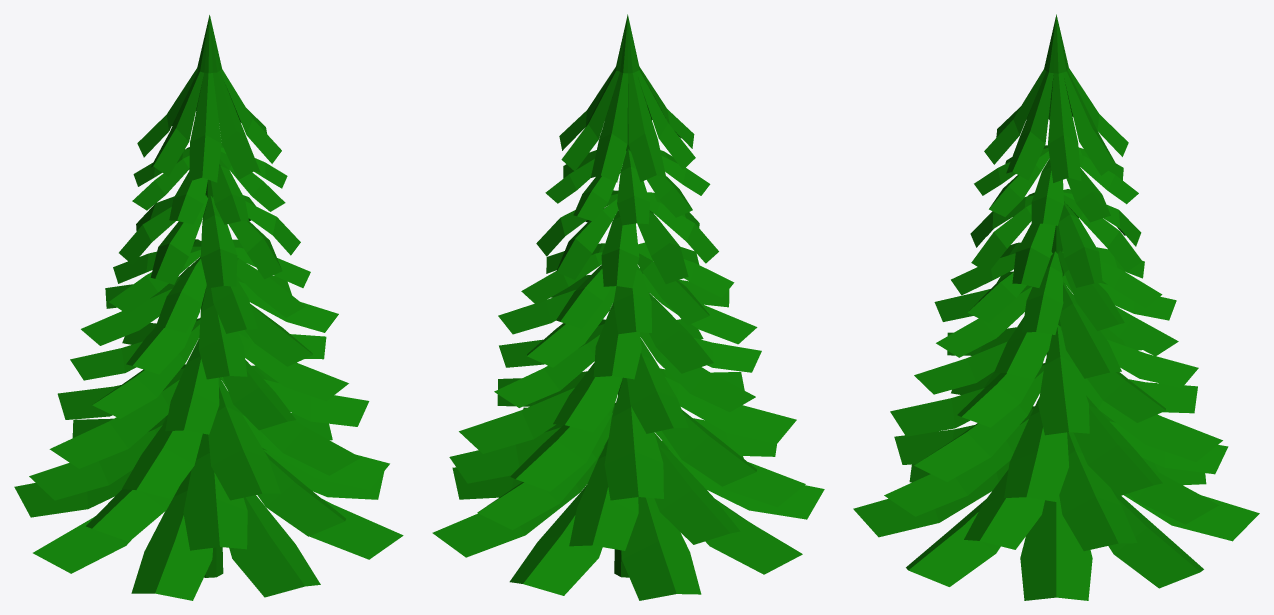
The model's file is Tree.fbx.
The picture shows the model from 3 angles, left to right: view 1: azimuth 30°, elevation 25°; view 2: azimuth 150°, elevation 25°; view 3: azimuth 270°, elevation 25°; orthographic projection.
Visible parts, largest first — view 1: Fir-tree.001; view 2: Fir-tree.001; view 3: Fir-tree.001.
Boxes of the visible parts, <box> form: Fir-tree.001: <box>14,15,403,600</box>; Fir-tree.001: <box>432,14,824,600</box>; Fir-tree.001: <box>853,14,1259,600</box>.
Bounding box in the file's own units: 377 × 572 × 377.
